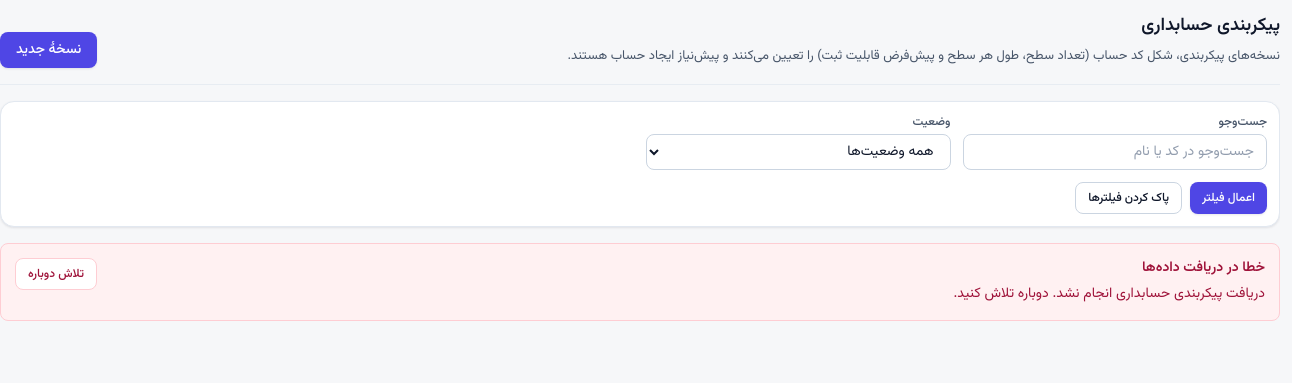
ConfigurationListPage › shows the failure with a working retry
Check: the text "دریافت پیکربندی حسابداری انجام نشد. دوباره تلاش کنید." is shown, box [954,282,1265,306]
What coordinates should you click on to do the following:
click the button "تلاش دوباره"
I would click on:
 (56, 274)
Its box is [15,258,97,290].
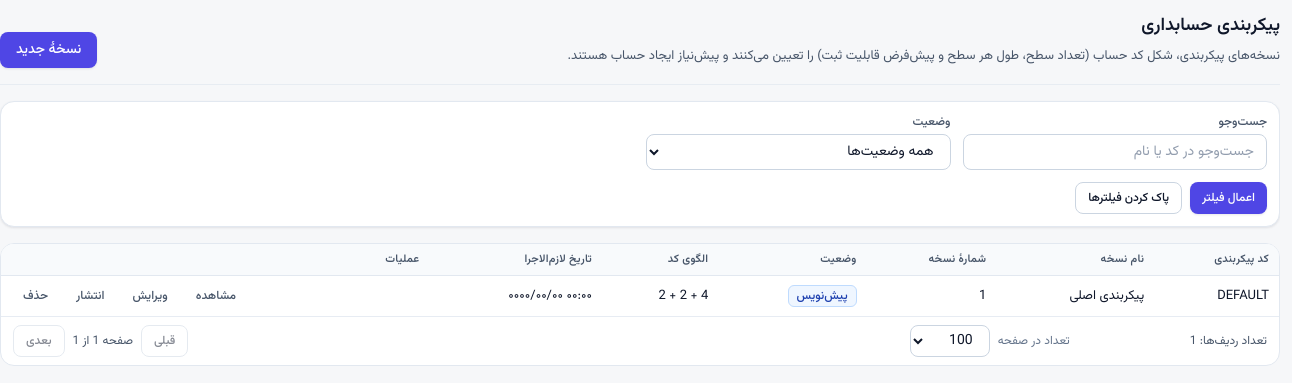
Check: the text "پیکربندی اصلی" is shown, box [996,276,1154,316]
